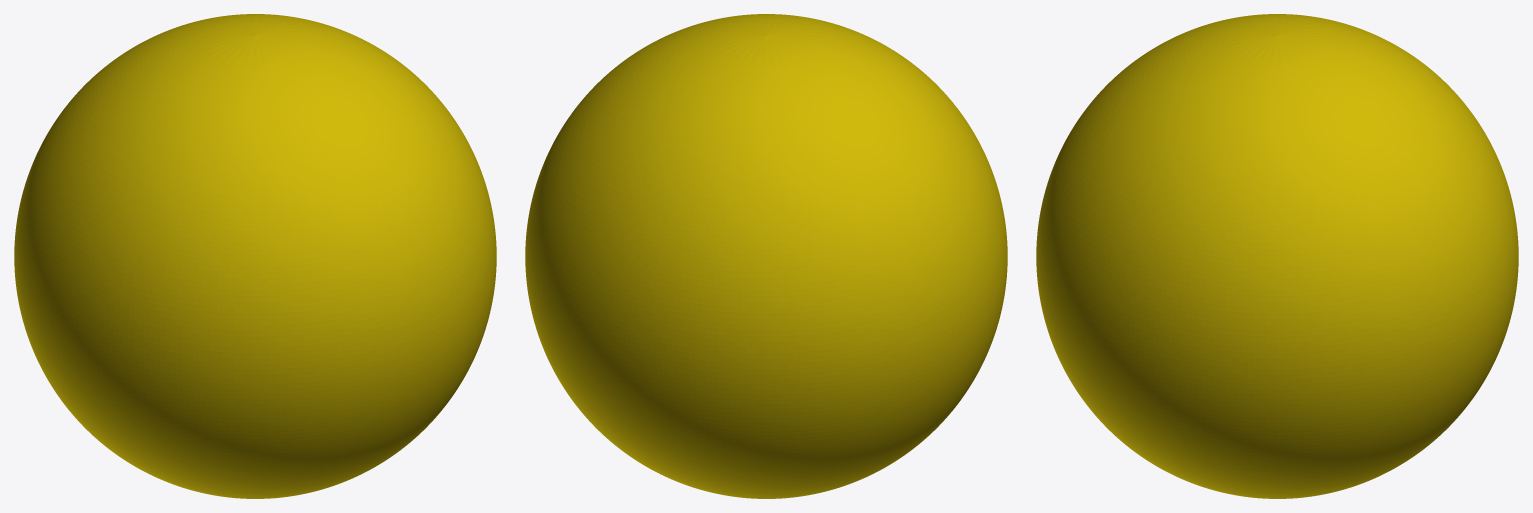
File: boneco_cabeca.obj
The picture shows the model from 3 angles, left to right: view 1: azimuth 30°, elevation 25°; view 2: azimuth 150°, elevation 25°; view 3: azimuth 270°, elevation 25°; orthographic projection.
Visible parts, largest first — view 1: Sphere_Material.002; view 2: Sphere_Material.002; view 3: Sphere_Material.002.
Part boxes in pixels (<box>): Sphere_Material.002: <box>14,14,496,498</box>; Sphere_Material.002: <box>525,14,1007,498</box>; Sphere_Material.002: <box>1036,14,1518,498</box>.
Bounding box in the file's own units: 0.2749 × 0.2778 × 0.2749.
